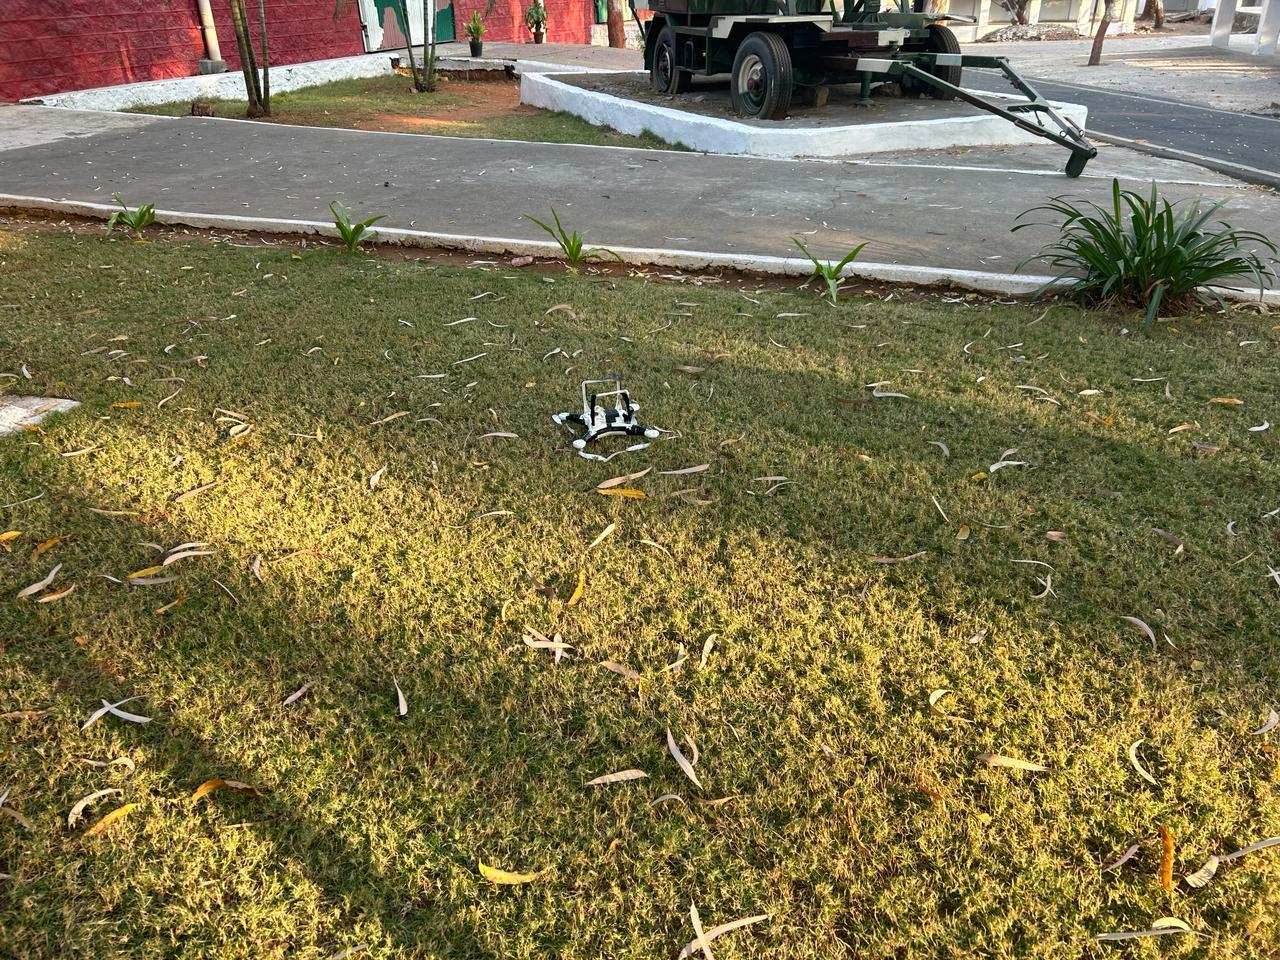drone: (538, 370, 697, 459)
